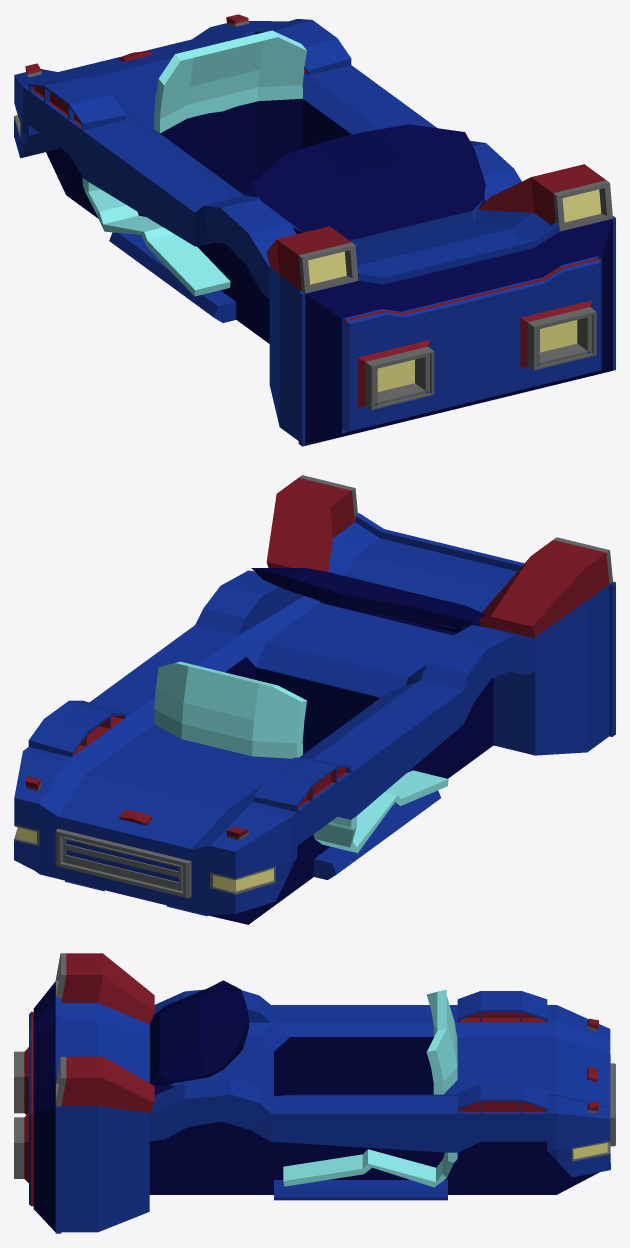
The model's file is carroça1.fbx.
3 renders of one model, top to bottom at view 1: azimuth 30°, elevation 25°; view 2: azimuth 150°, elevation 25°; view 3: azimuth 270°, elevation 25°, orthographic. The views are drawn at different scales.
Visible parts, largest first — view 1: Cube; view 2: Cube; view 3: Cube.
Part boxes in pixels (x1,y1,x2,y2): Cube: (14, 14, 615, 446); Cube: (14, 475, 615, 924); Cube: (14, 953, 615, 1233).
Size of the model in its own units: 594 by 350 by 1189.
